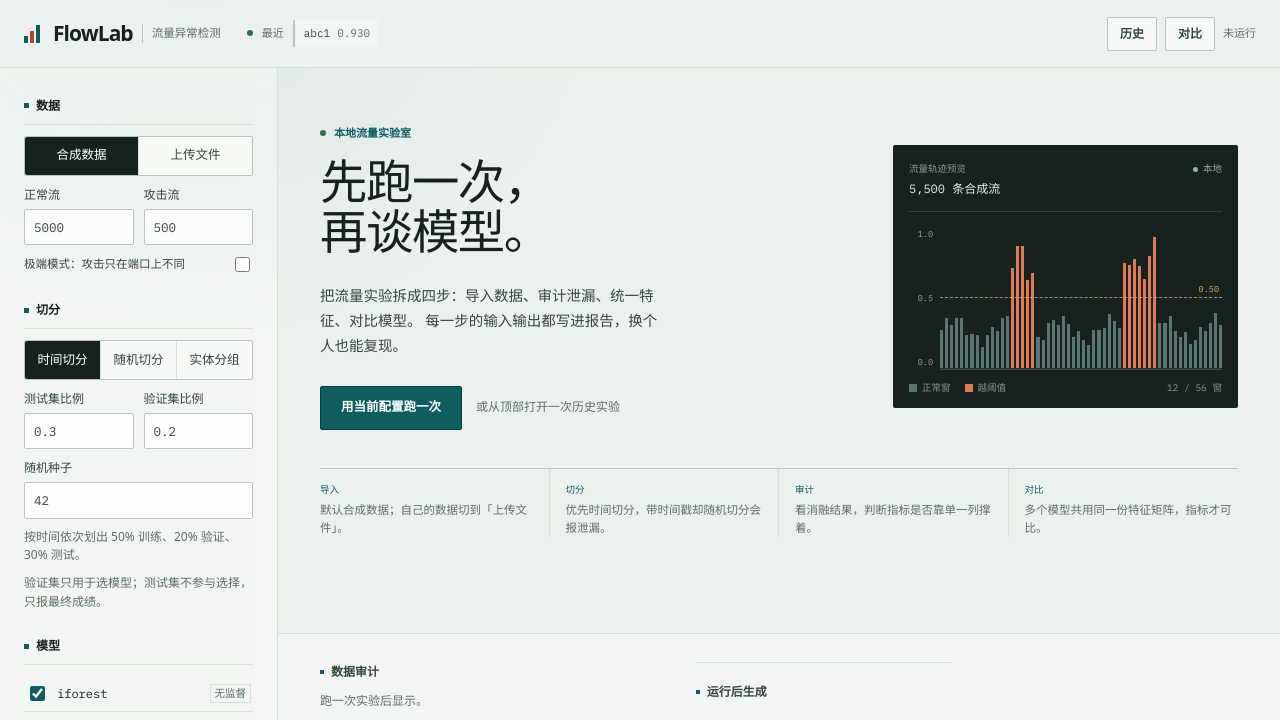
Test: App history restore › restores parameters and refuses to silently rerun an unavailable uploaded file
Click the button titled "flows.csv". click: (335, 33)
box: left=293, top=20, right=378, bottom=46
(page scrolled)
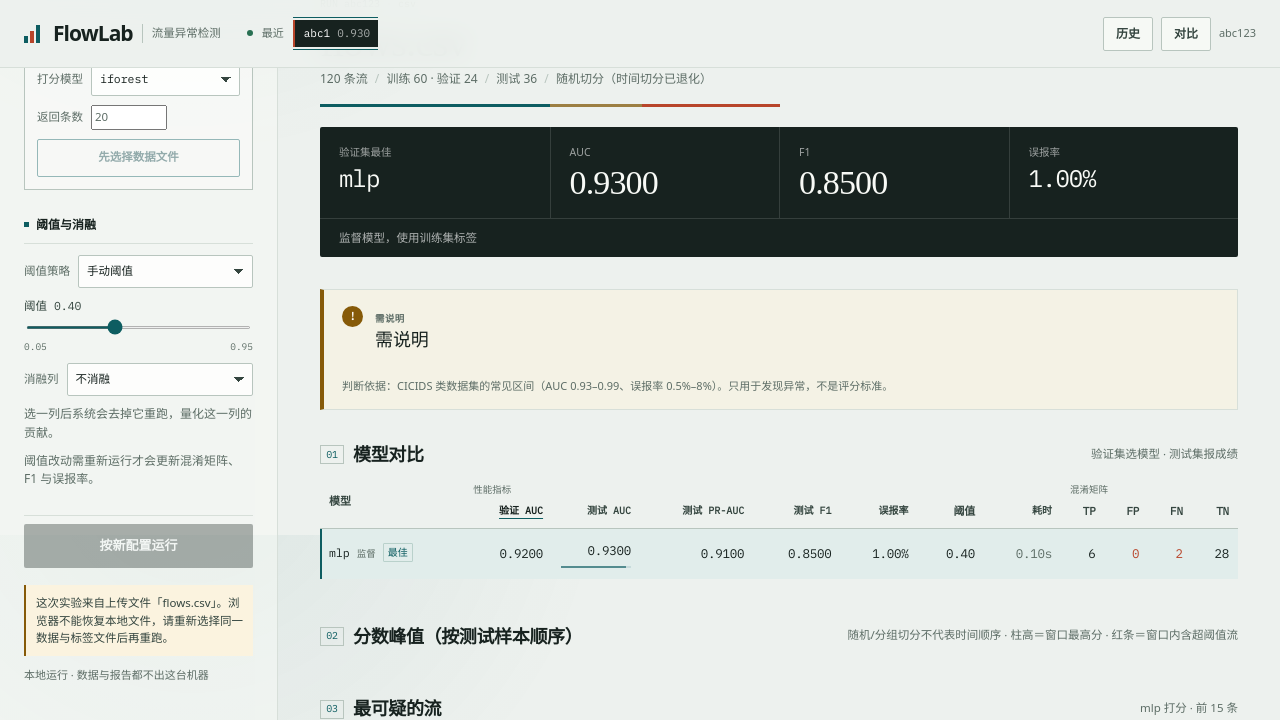
expect the text "这次实验来自上传文件「flows.csv」。浏览器不能恢复本地文件，请重新选择同一数据与标签文件后再重跑。" is shown: met, box left=24, top=585, right=253, bottom=656
expect the button "按新配置运行" is disabled: met, box left=24, top=524, right=253, bottom=568
